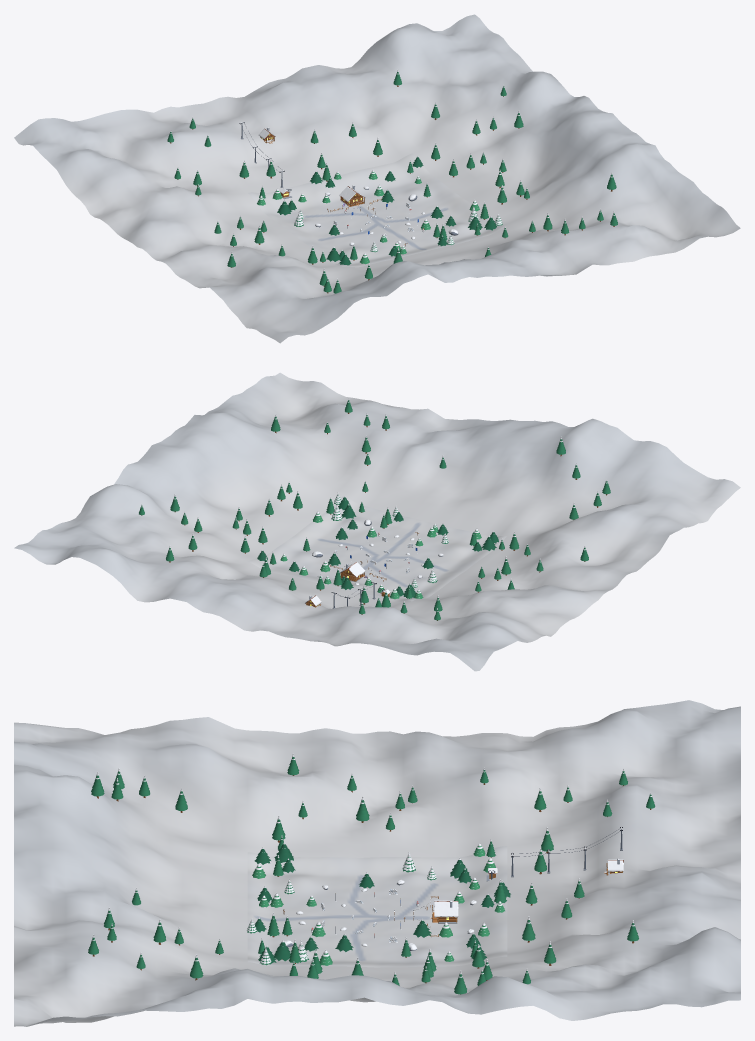
File: base_camp.glb
The picture shows the model from 3 angles, top to bottom: view 1: azimuth 30°, elevation 25°; view 2: azimuth 150°, elevation 25°; view 3: azimuth 270°, elevation 25°; orthographic projection. The views are drawn at different scales.
Parts seen in each view (by area): view 1: backdrop_hills, terrain; view 2: backdrop_hills, terrain; view 3: backdrop_hills, terrain, wooden_cabin_01.
Boxes of the visible parts, <box> form: backdrop_hills: <box>14,14,740,343</box>; terrain: <box>248,153,506,267</box>; backdrop_hills: <box>14,372,740,671</box>; terrain: <box>248,496,506,601</box>; backdrop_hills: <box>14,700,740,1026</box>; terrain: <box>247,846,507,967</box>; wooden_cabin_01: <box>430,900,458,923</box>.
Size of the model in its own units: 280 by 39.57 by 280.
